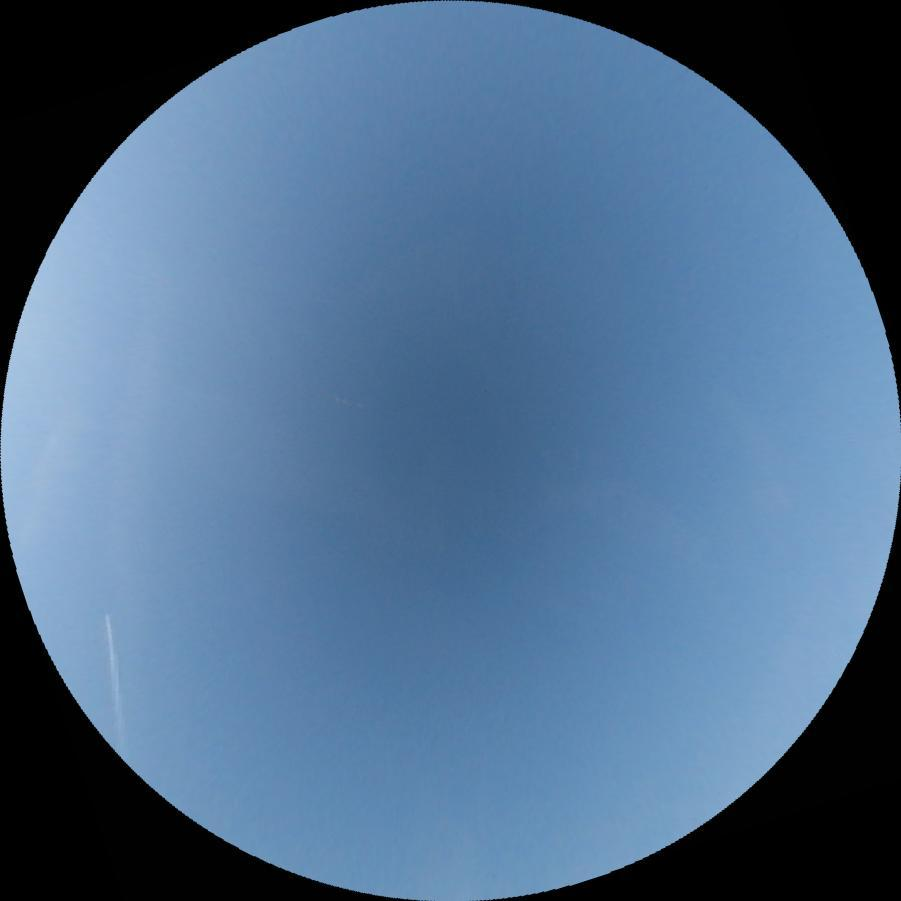contrail young: (101, 613, 127, 765)
